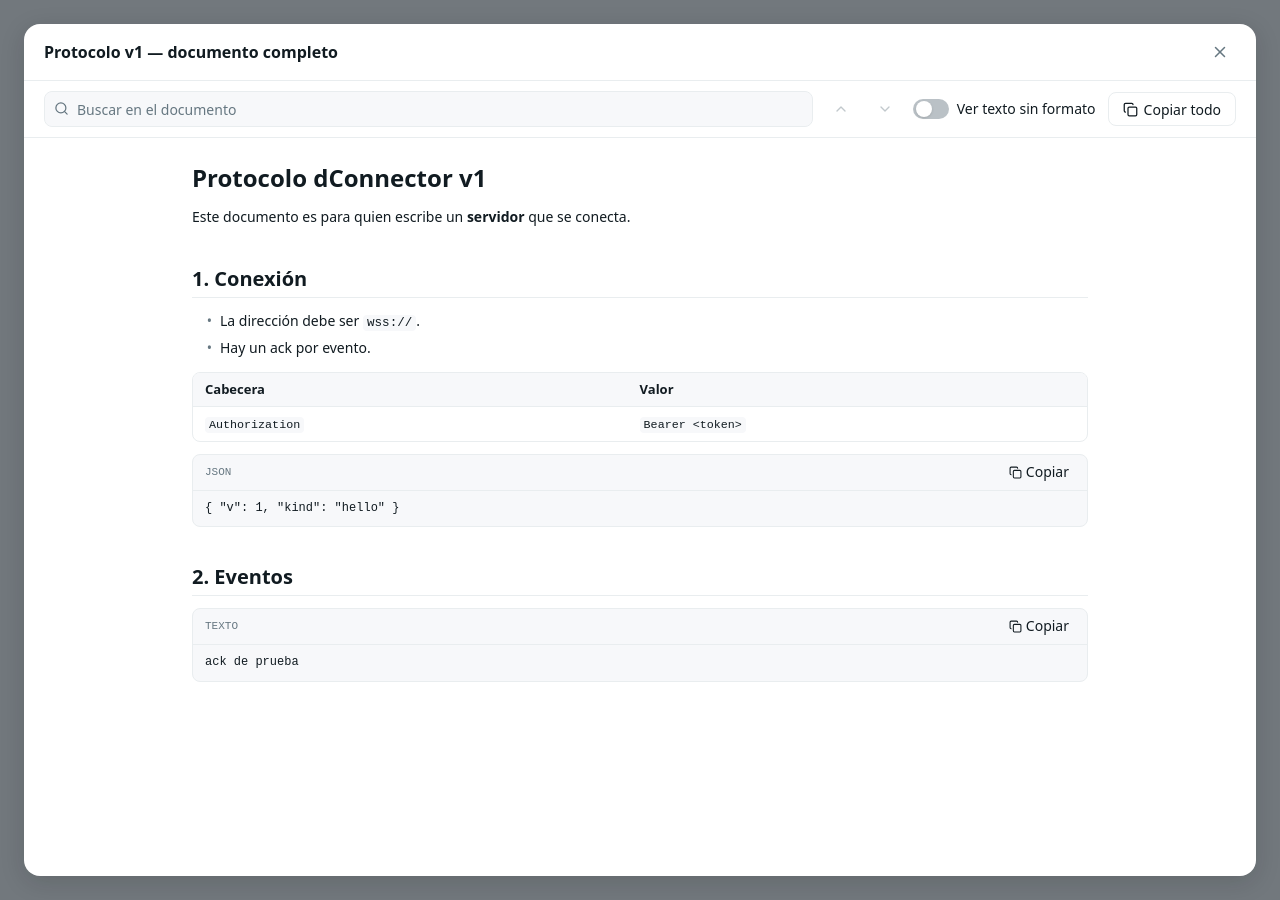
Test: diálogo del protocolo › «Copiar todo» copia el Markdown completo y avisa «Copiado»
Expected: the heading "Protocolo dConnector v1" is shown, 192,161 -> 486,194
Click the button "Copiar todo" at (1172, 109), box 1108,92 -> 1236,126
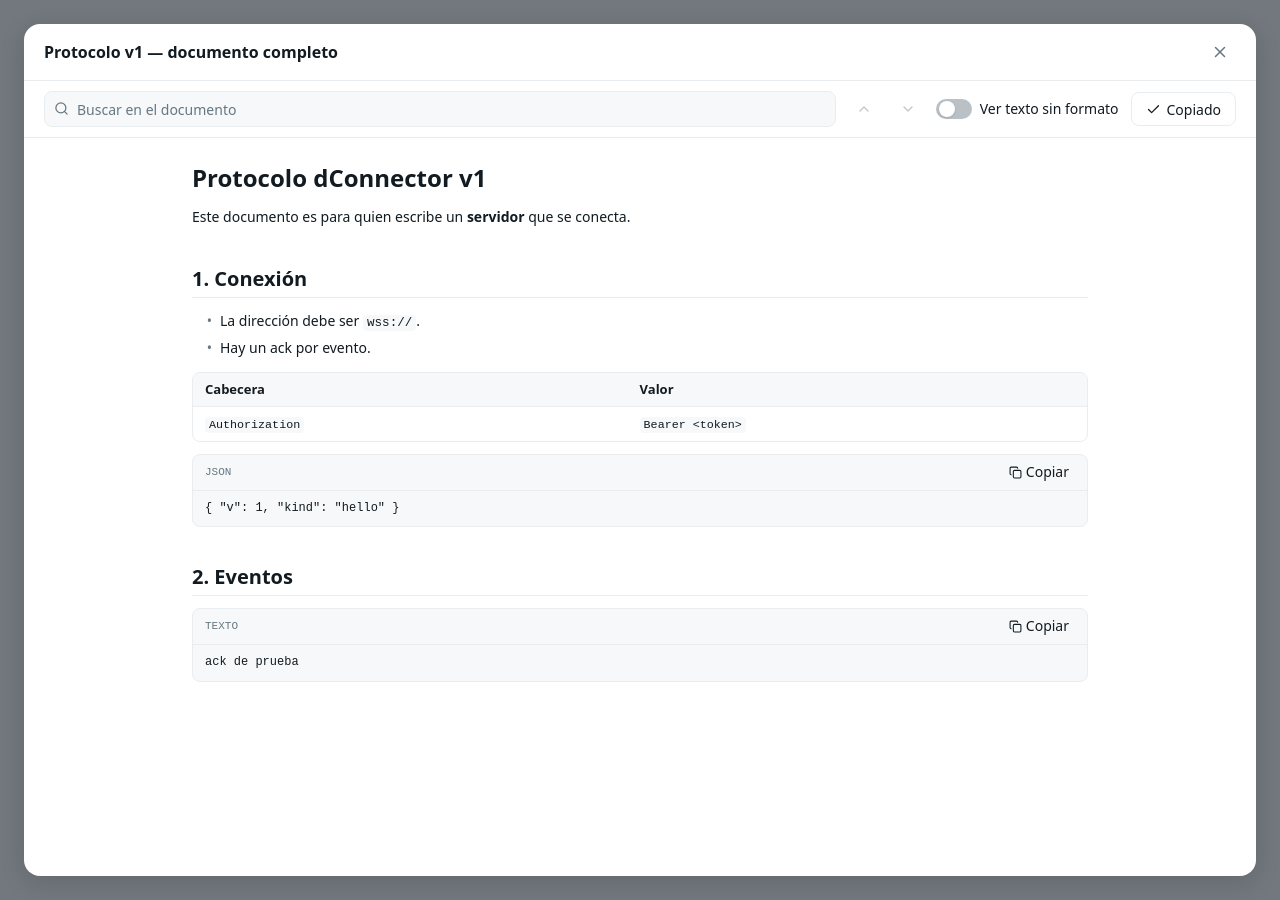
Now the button "Copiado" is shown, box 1130,92 -> 1236,126
